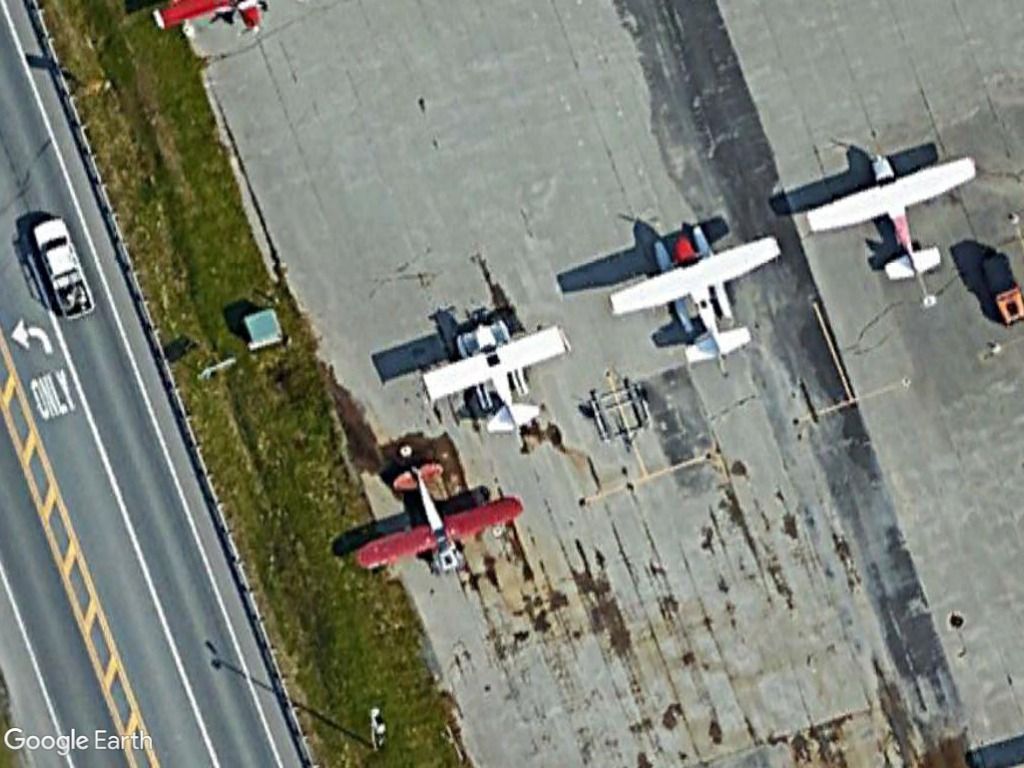other: (21, 214, 98, 318)
trainer: (801, 145, 981, 288), (604, 230, 784, 365), (351, 457, 523, 589), (420, 317, 574, 441)
